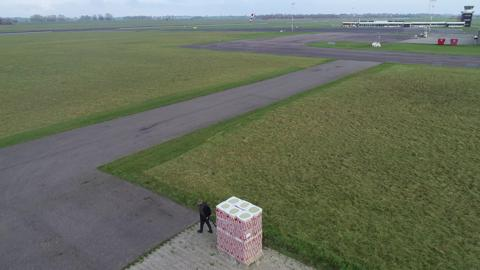RockwoolPallet: (215, 196, 264, 266)
